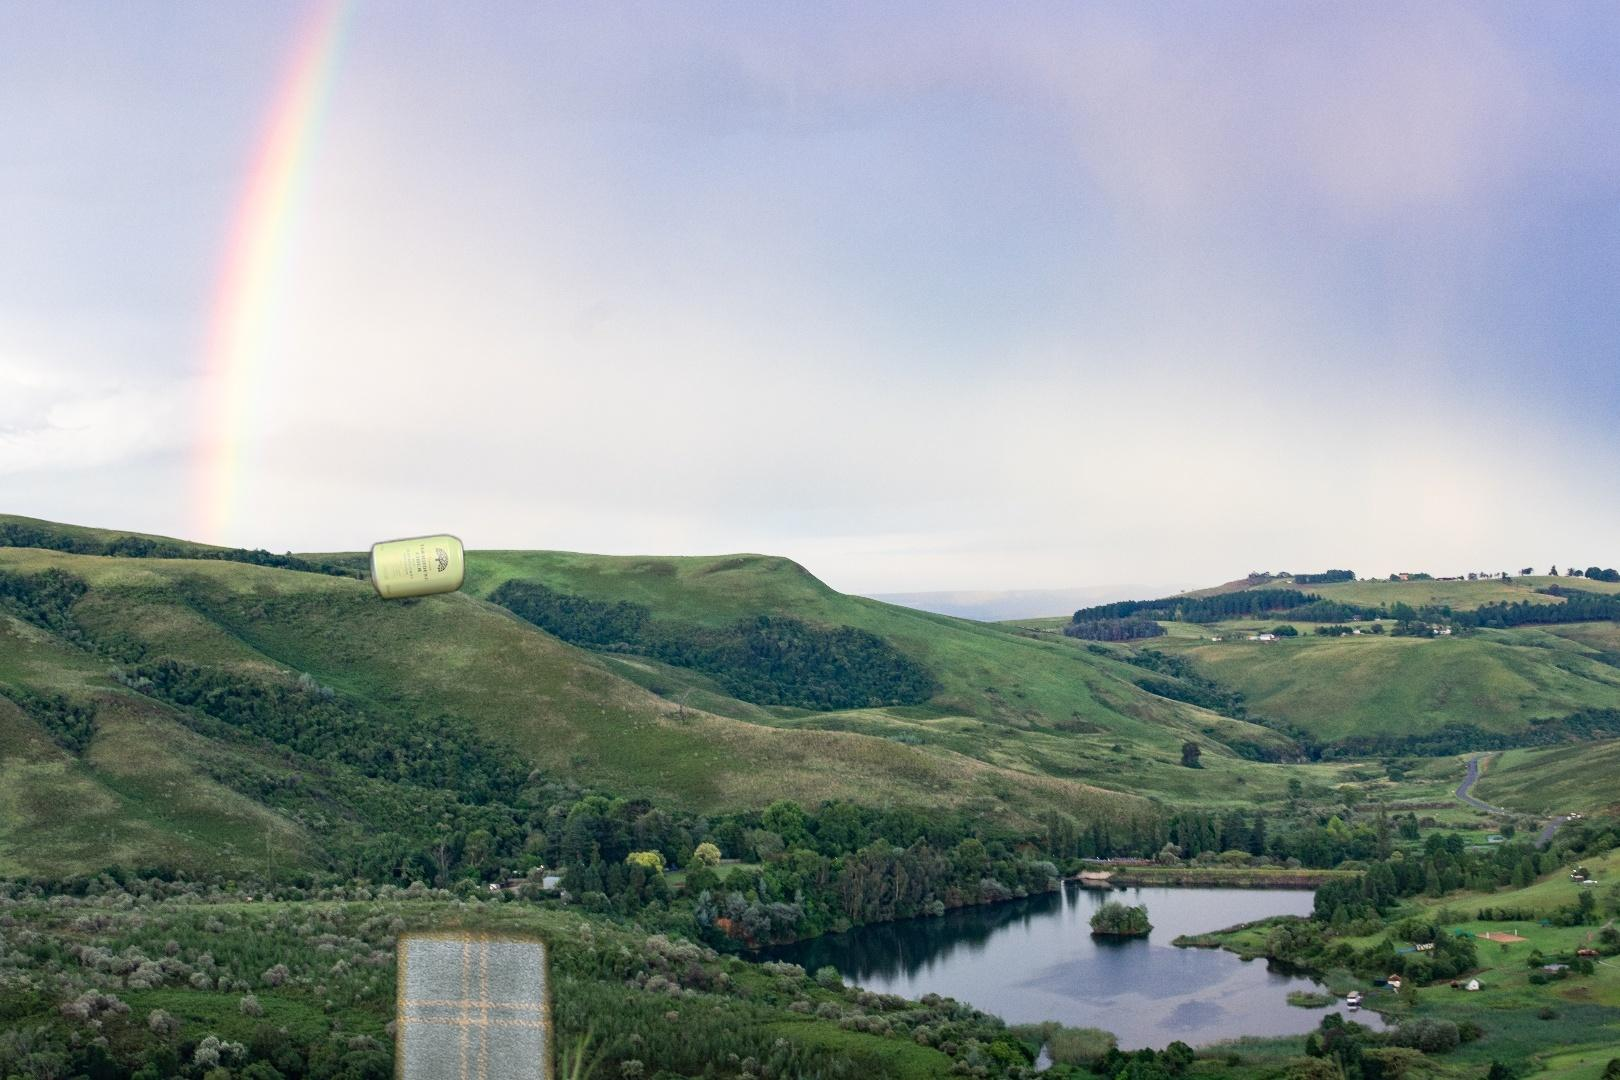metal-cans: (286, 529, 567, 1080)
